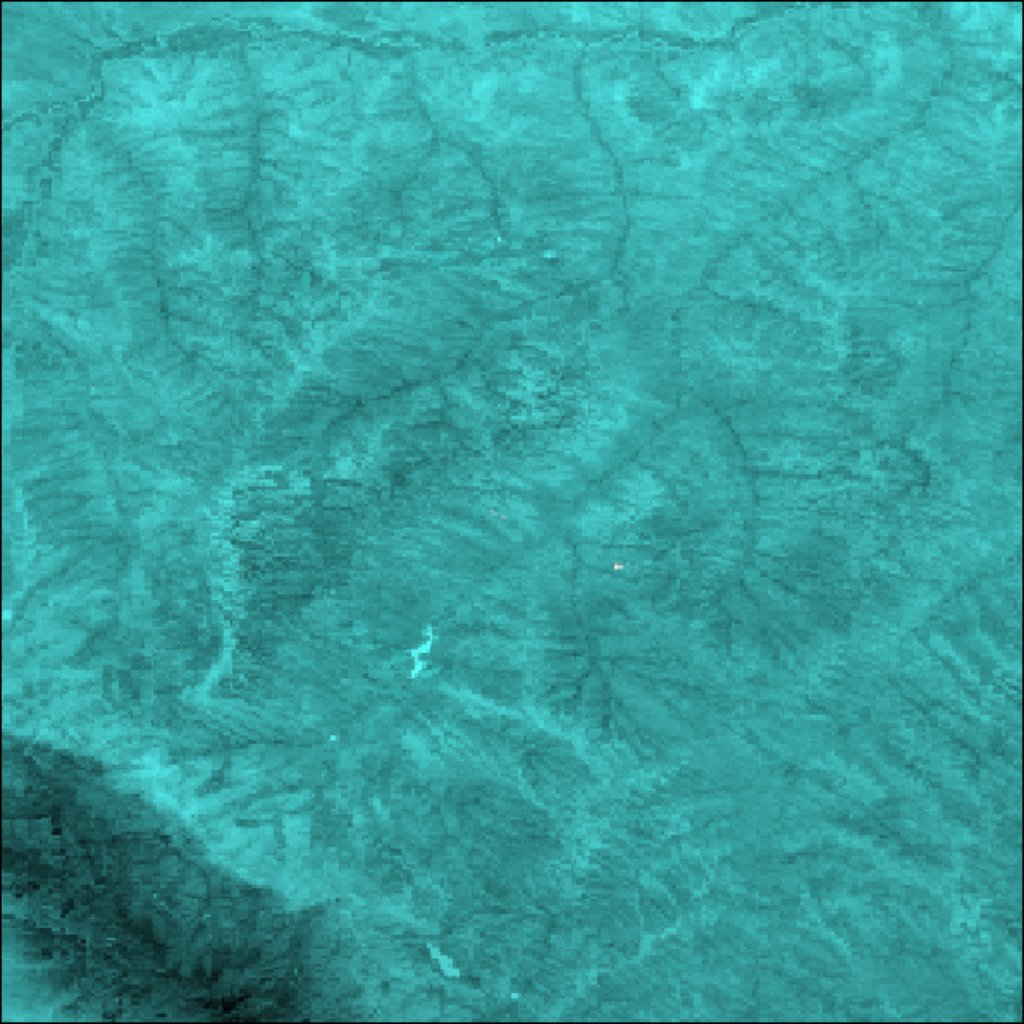fire: (2, 2, 1023, 1023)
